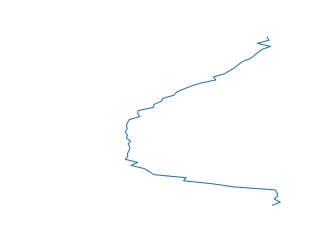underwaterDistributaryChannel: (120, 34, 284, 208)
